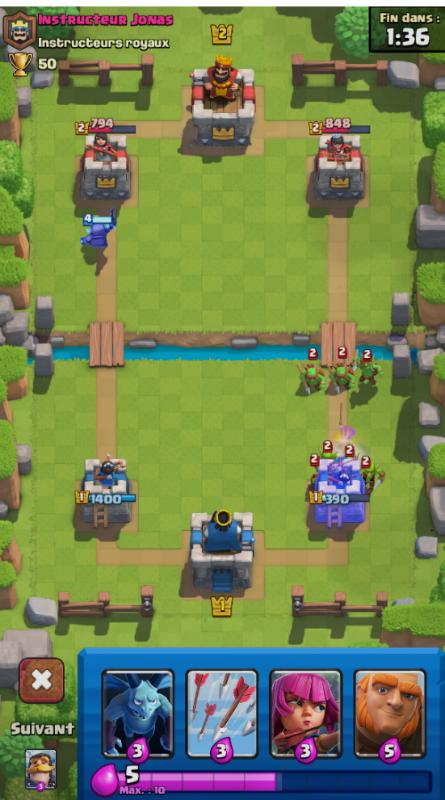gobelin: (337, 438, 366, 481), (319, 433, 343, 479), (301, 465, 330, 499), (359, 455, 385, 489)
gobelin_lances: (349, 347, 387, 390), (331, 351, 358, 397), (298, 358, 327, 399)
mini_PEKKA: (71, 206, 125, 263)
